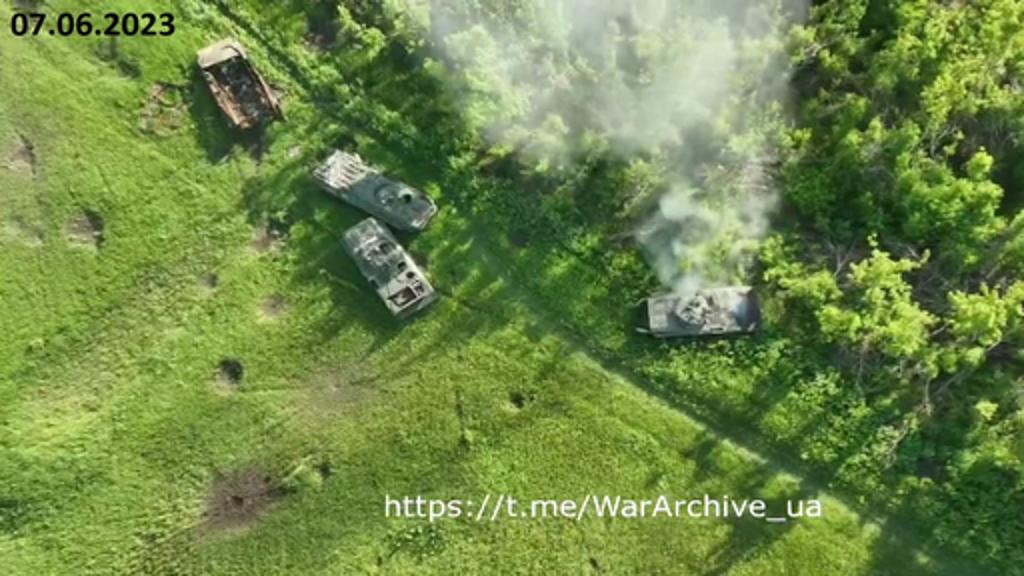APC-IFV: (336, 222, 440, 326), (316, 150, 434, 234), (644, 282, 764, 344)
